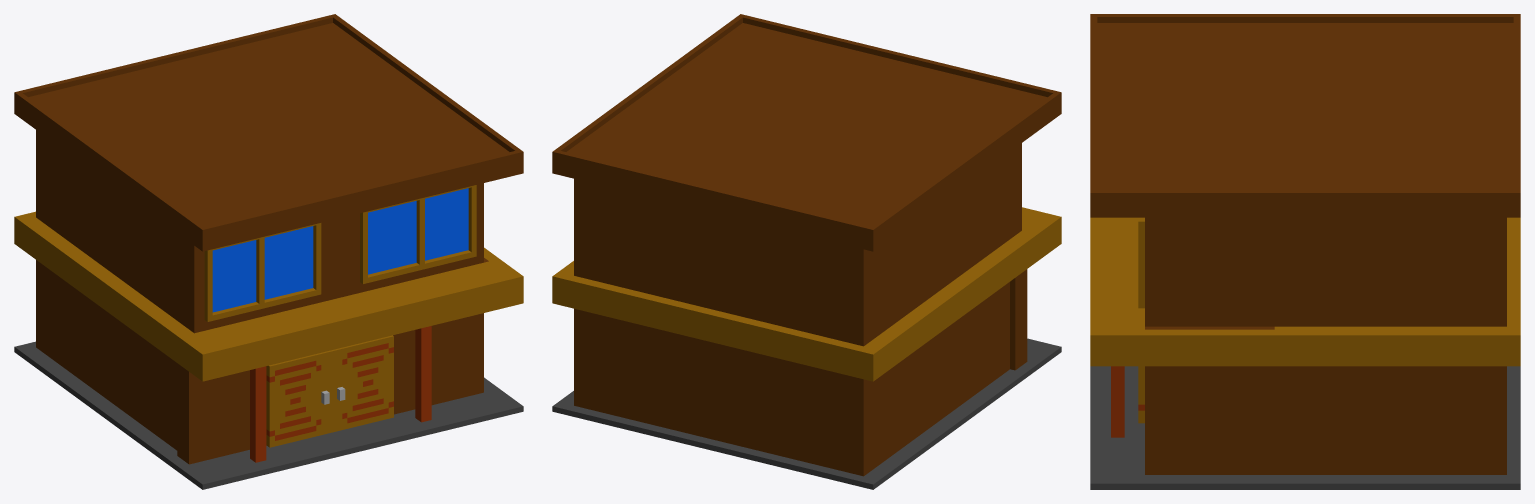
The model's file is Library.obj.
3 views of the same model, side by side, from view 1: azimuth 30°, elevation 25°; view 2: azimuth 150°, elevation 25°; view 3: azimuth 270°, elevation 25° (orthographic). The views are drawn at different scales.
Size of the model in its own units: 6.2 by 4.8 by 6.3.
1 material, 1 textured.
